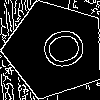O: (30, 24, 89, 76)
